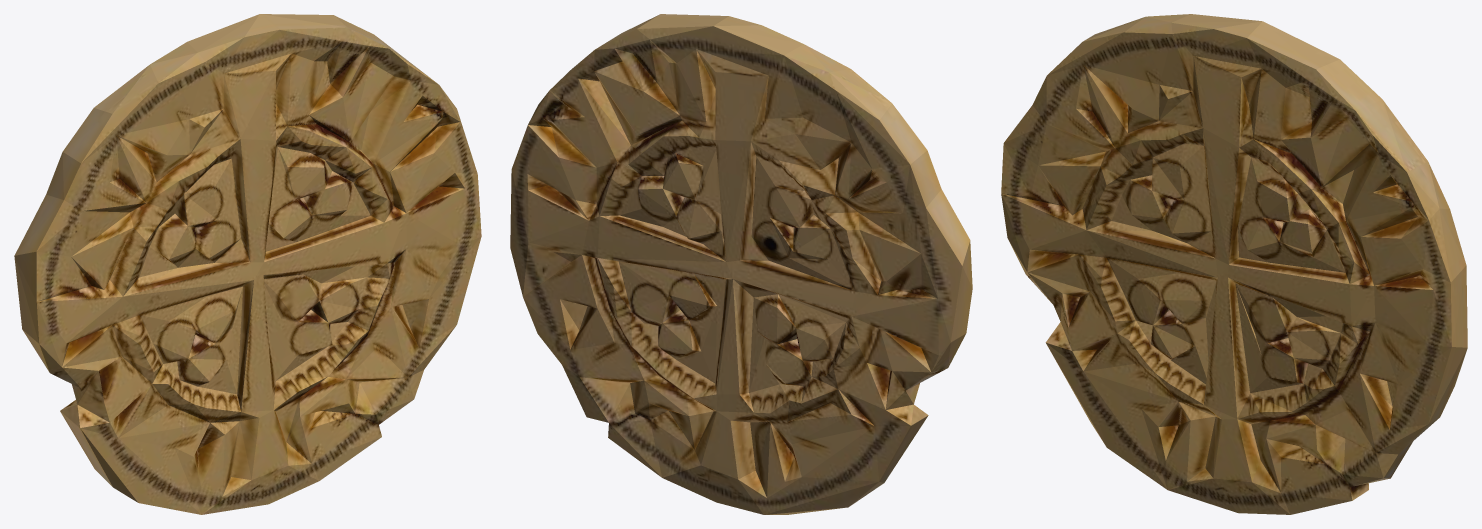
File: coin_gold_big_lod0.glb
The picture shows the model from 3 angles, left to right: view 1: azimuth 30°, elevation 25°; view 2: azimuth 150°, elevation 25°; view 3: azimuth 330°, elevation 25°; orthographic projection.
Visible parts, largest first — view 1: coin_gold_big_lod0; view 2: coin_gold_big_lod0; view 3: coin_gold_big_lod0.
Part boxes in pixels (bbox=[...]): coin_gold_big_lod0: bbox=[14, 14, 481, 514]; coin_gold_big_lod0: bbox=[510, 14, 972, 514]; coin_gold_big_lod0: bbox=[1001, 14, 1467, 514].
Bounding box in the file's own units: 0.2469 × 0.2489 × 0.0242.
Materials: 1 (1 with a texture image).
